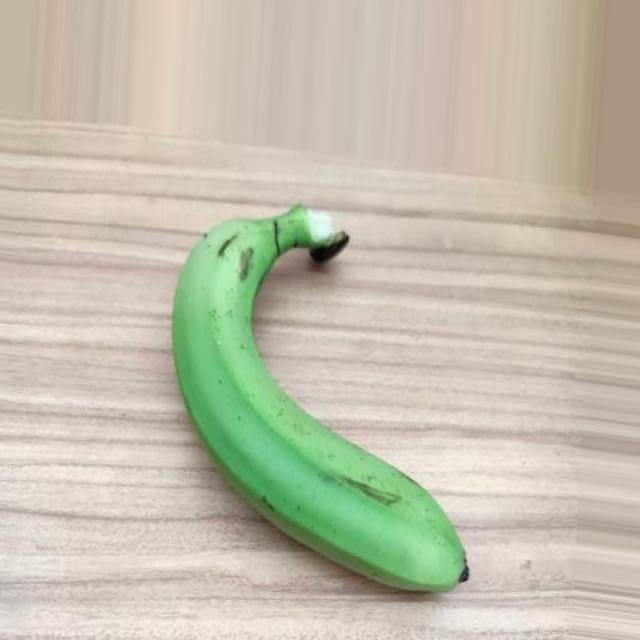Unripe: (171, 207, 471, 594)
